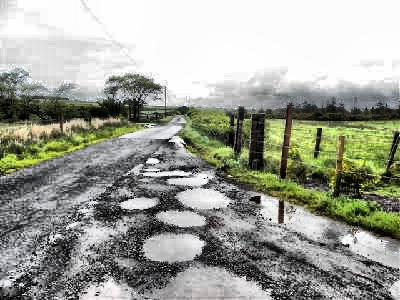pothole: (143, 261, 283, 298), (140, 229, 207, 262), (341, 230, 400, 266), (74, 273, 140, 299), (249, 195, 296, 227), (173, 186, 231, 209), (155, 207, 207, 228), (117, 194, 160, 210), (167, 173, 213, 186), (140, 170, 190, 177), (145, 156, 160, 164)
